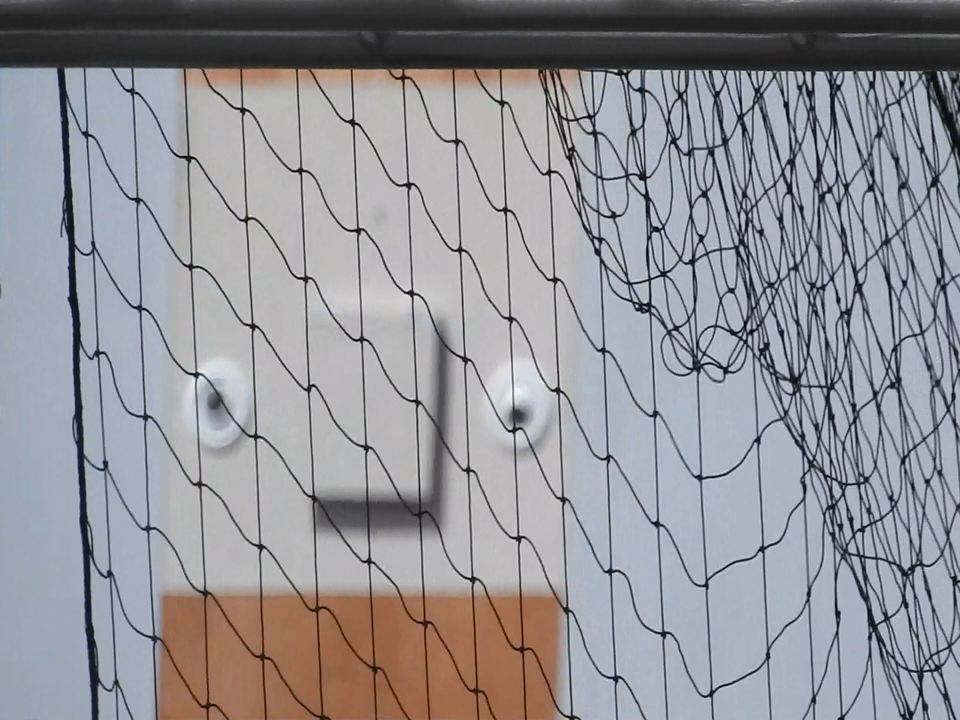facade: (185, 294, 553, 501)
